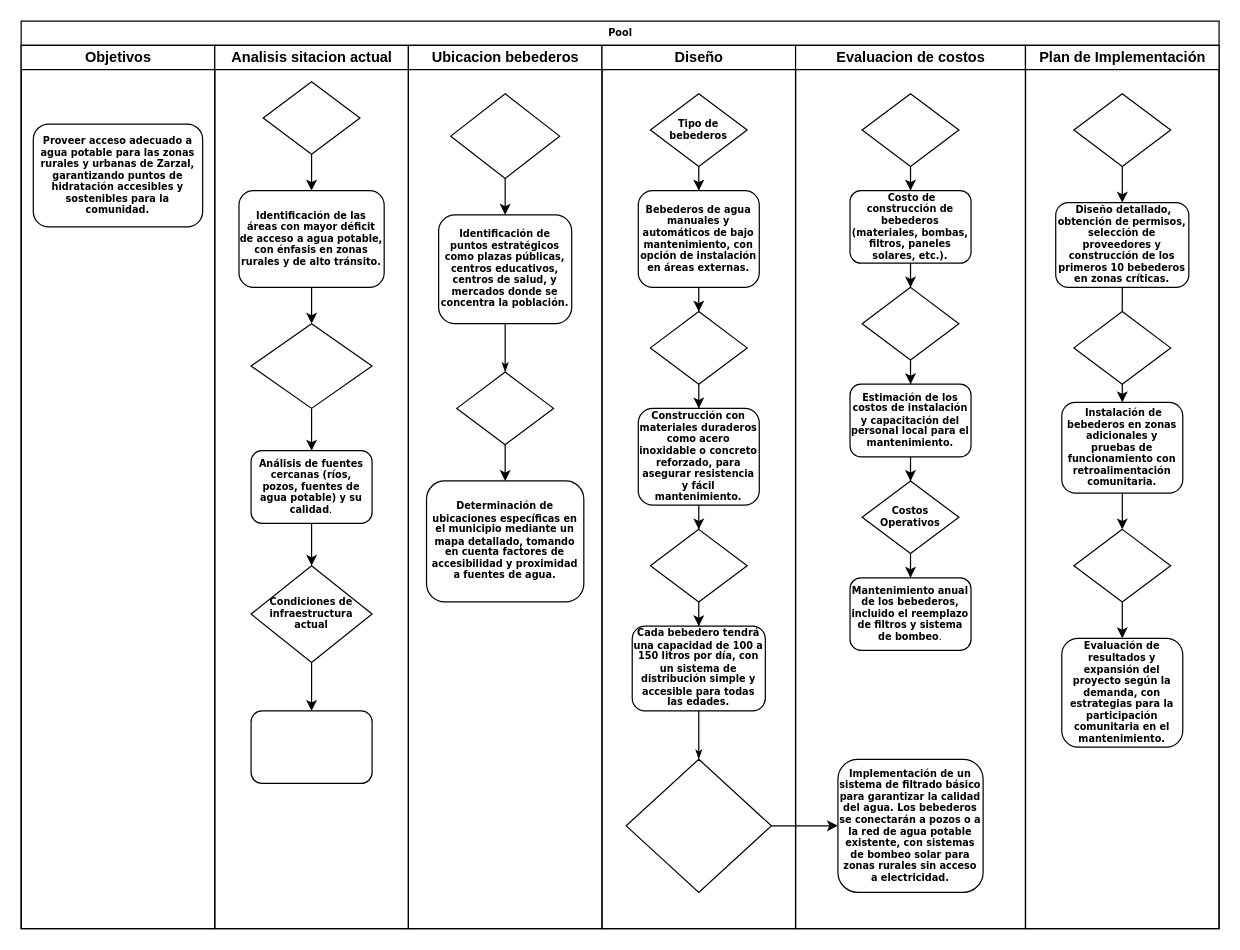
Image size: 1240x950. Some labels were removed from this diagram. Each missing label, with the centre of its shape:
"Capacidad y estructura" goes at [698,565].
"Fase 1" goes at [1122,129].
"Fase 3" goes at [1122,565].
"Fase2" goes at [1122,347].
"Fuentes de agua disponibles" goes at [311,365].
"Mano de obra" goes at [910,323].
"Mapeo preliminar" goes at [505,408].
"Materiales" goes at [910,129].
"Materiales propuestos" goes at [698,347].
"Revisión de la red de agua potable y su cobertura en las áreas identificadas." goes at [311,746].
"Sistema de captación y filtrado" goes at [698,825].
"Zonas prioritarias" goes at [311,117].
"Zonas seleccionadas" goes at [505,135].
